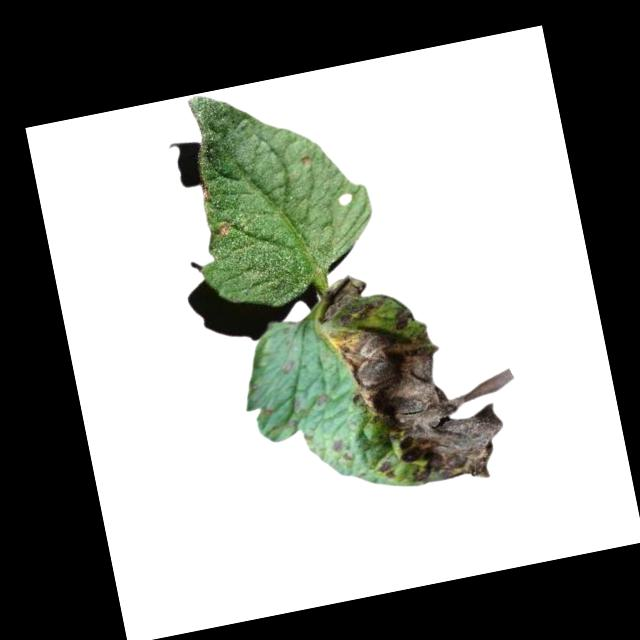Early_blight: (310, 249, 534, 505), (198, 175, 212, 203), (215, 218, 233, 237)
